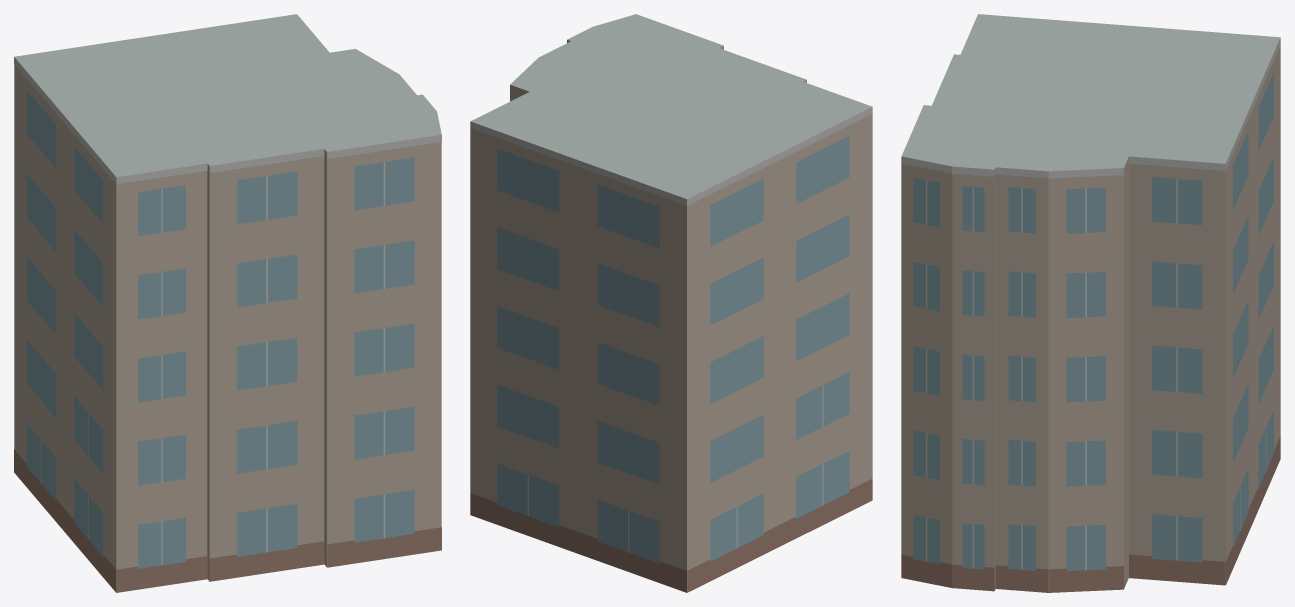
Rendered from survey-upis-32653019.glb.
3 views of the same model, side by side, from view 1: azimuth 30°, elevation 25°; view 2: azimuth 150°, elevation 25°; view 3: azimuth 270°, elevation 25° (orthographic). The views are drawn at different scales.
Visible parts, largest first — view 1: survey-upis-32653019.tmp; view 2: survey-upis-32653019.tmp; view 3: survey-upis-32653019.tmp.
Part boxes in pixels (x1,y1,x2,y2): survey-upis-32653019.tmp: (14, 14, 441, 592); survey-upis-32653019.tmp: (470, 14, 872, 592); survey-upis-32653019.tmp: (901, 14, 1280, 592).
Size of the model in its own units: 11.45 by 14.3 by 11.67.
